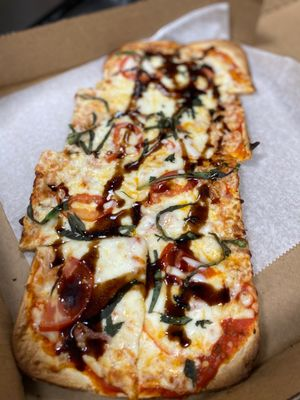sandwich: (12, 24, 263, 397)
